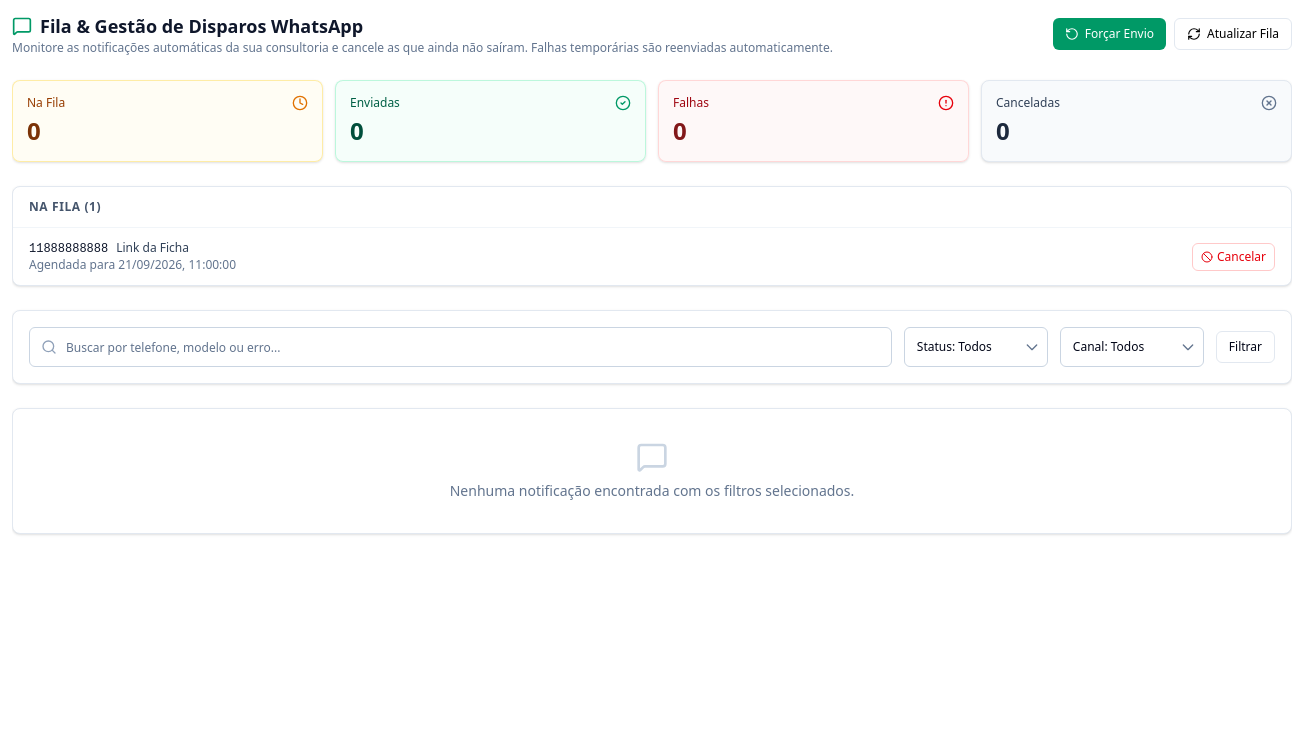
WhatsAppQueueManager › flushes the delayed jobs and reports how many were promoted
What coordinates should you click on to do the following:
click the button with test id "force-dispatch-btn"
I would click on:
 (1109, 34)
Its box is [1053,18,1166,50].
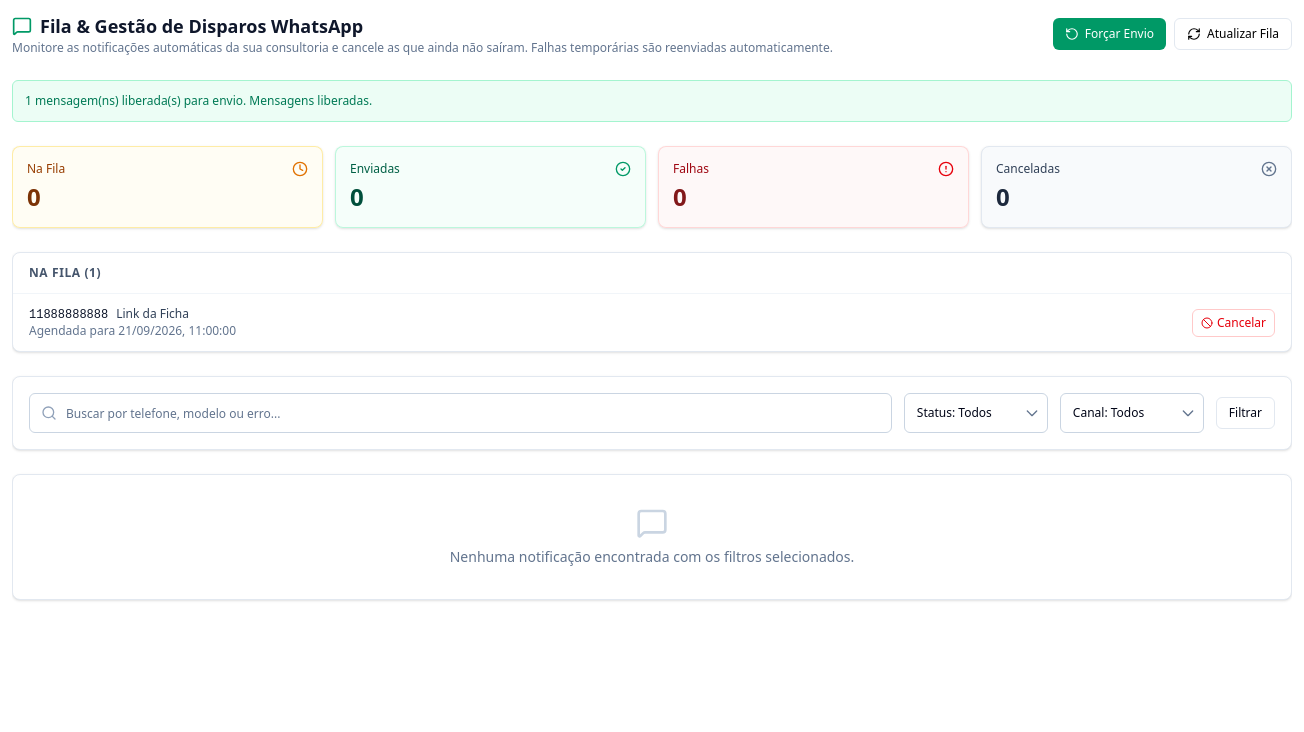
Expected: the text "1 mensagem(ns) liberada(s) para envio. Mensagens liberadas." is shown, [12,80,1292,122]
